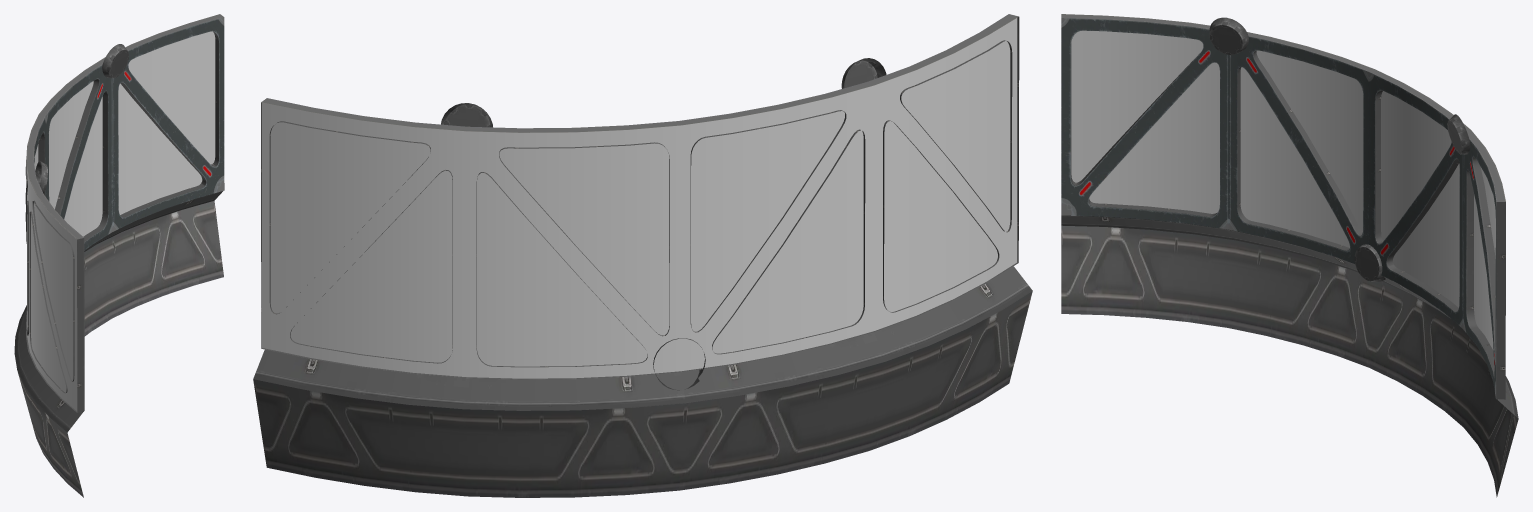
The model's file is WallWindow_Corner_Round_Inner.glb.
The picture shows the model from 3 angles, left to right: view 1: azimuth 30°, elevation 25°; view 2: azimuth 150°, elevation 25°; view 3: azimuth 270°, elevation 25°; orthographic projection. The views are drawn at different scales.
Visible parts, largest first — view 1: WallWindow_Corner_Round_Inner; view 2: WallWindow_Corner_Round_Inner; view 3: WallWindow_Corner_Round_Inner.
Boxes of the visible parts, box(x1,y1,x2,y2) form: WallWindow_Corner_Round_Inner: box(14, 14, 224, 497); WallWindow_Corner_Round_Inner: box(253, 14, 1032, 497); WallWindow_Corner_Round_Inner: box(1061, 14, 1518, 497).
Bounding box in the file's own units: 4.2 × 3.17 × 4.2.
4 materials, 3 textured.
